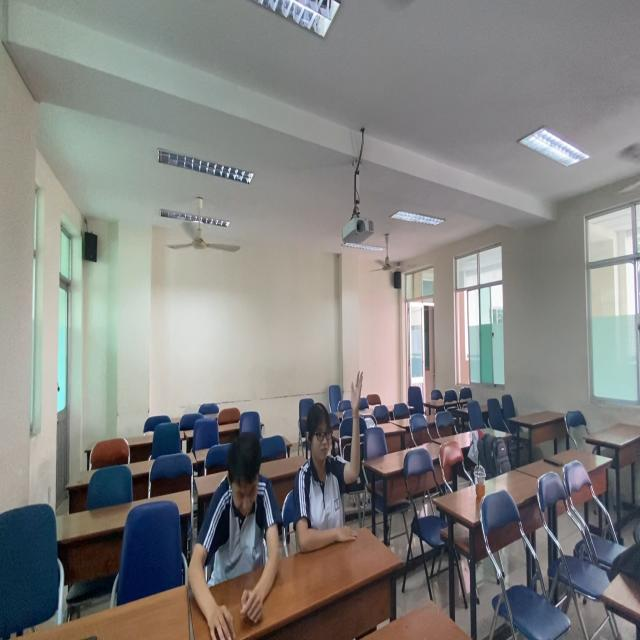raise_hand: (299, 366, 371, 535)
